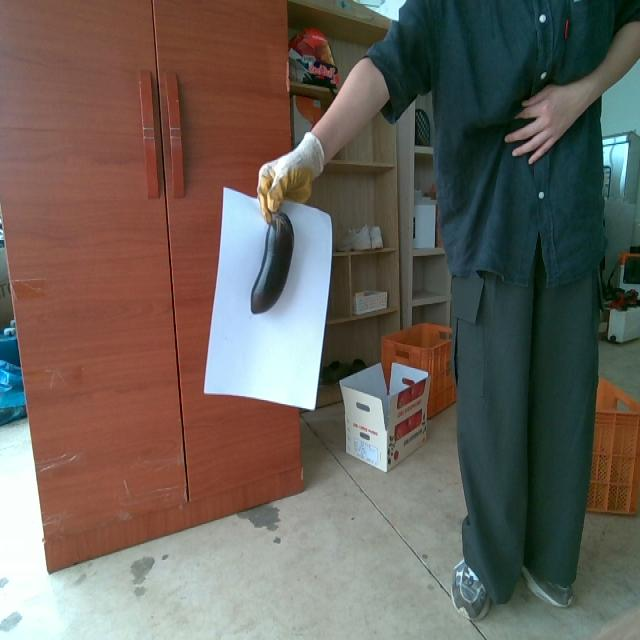Egg plant: (251, 212, 293, 313)
